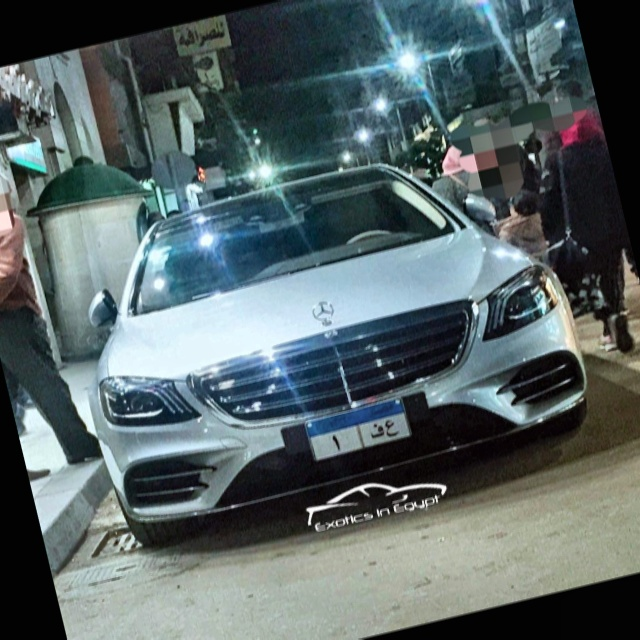License Plate: (301, 394, 415, 465)
